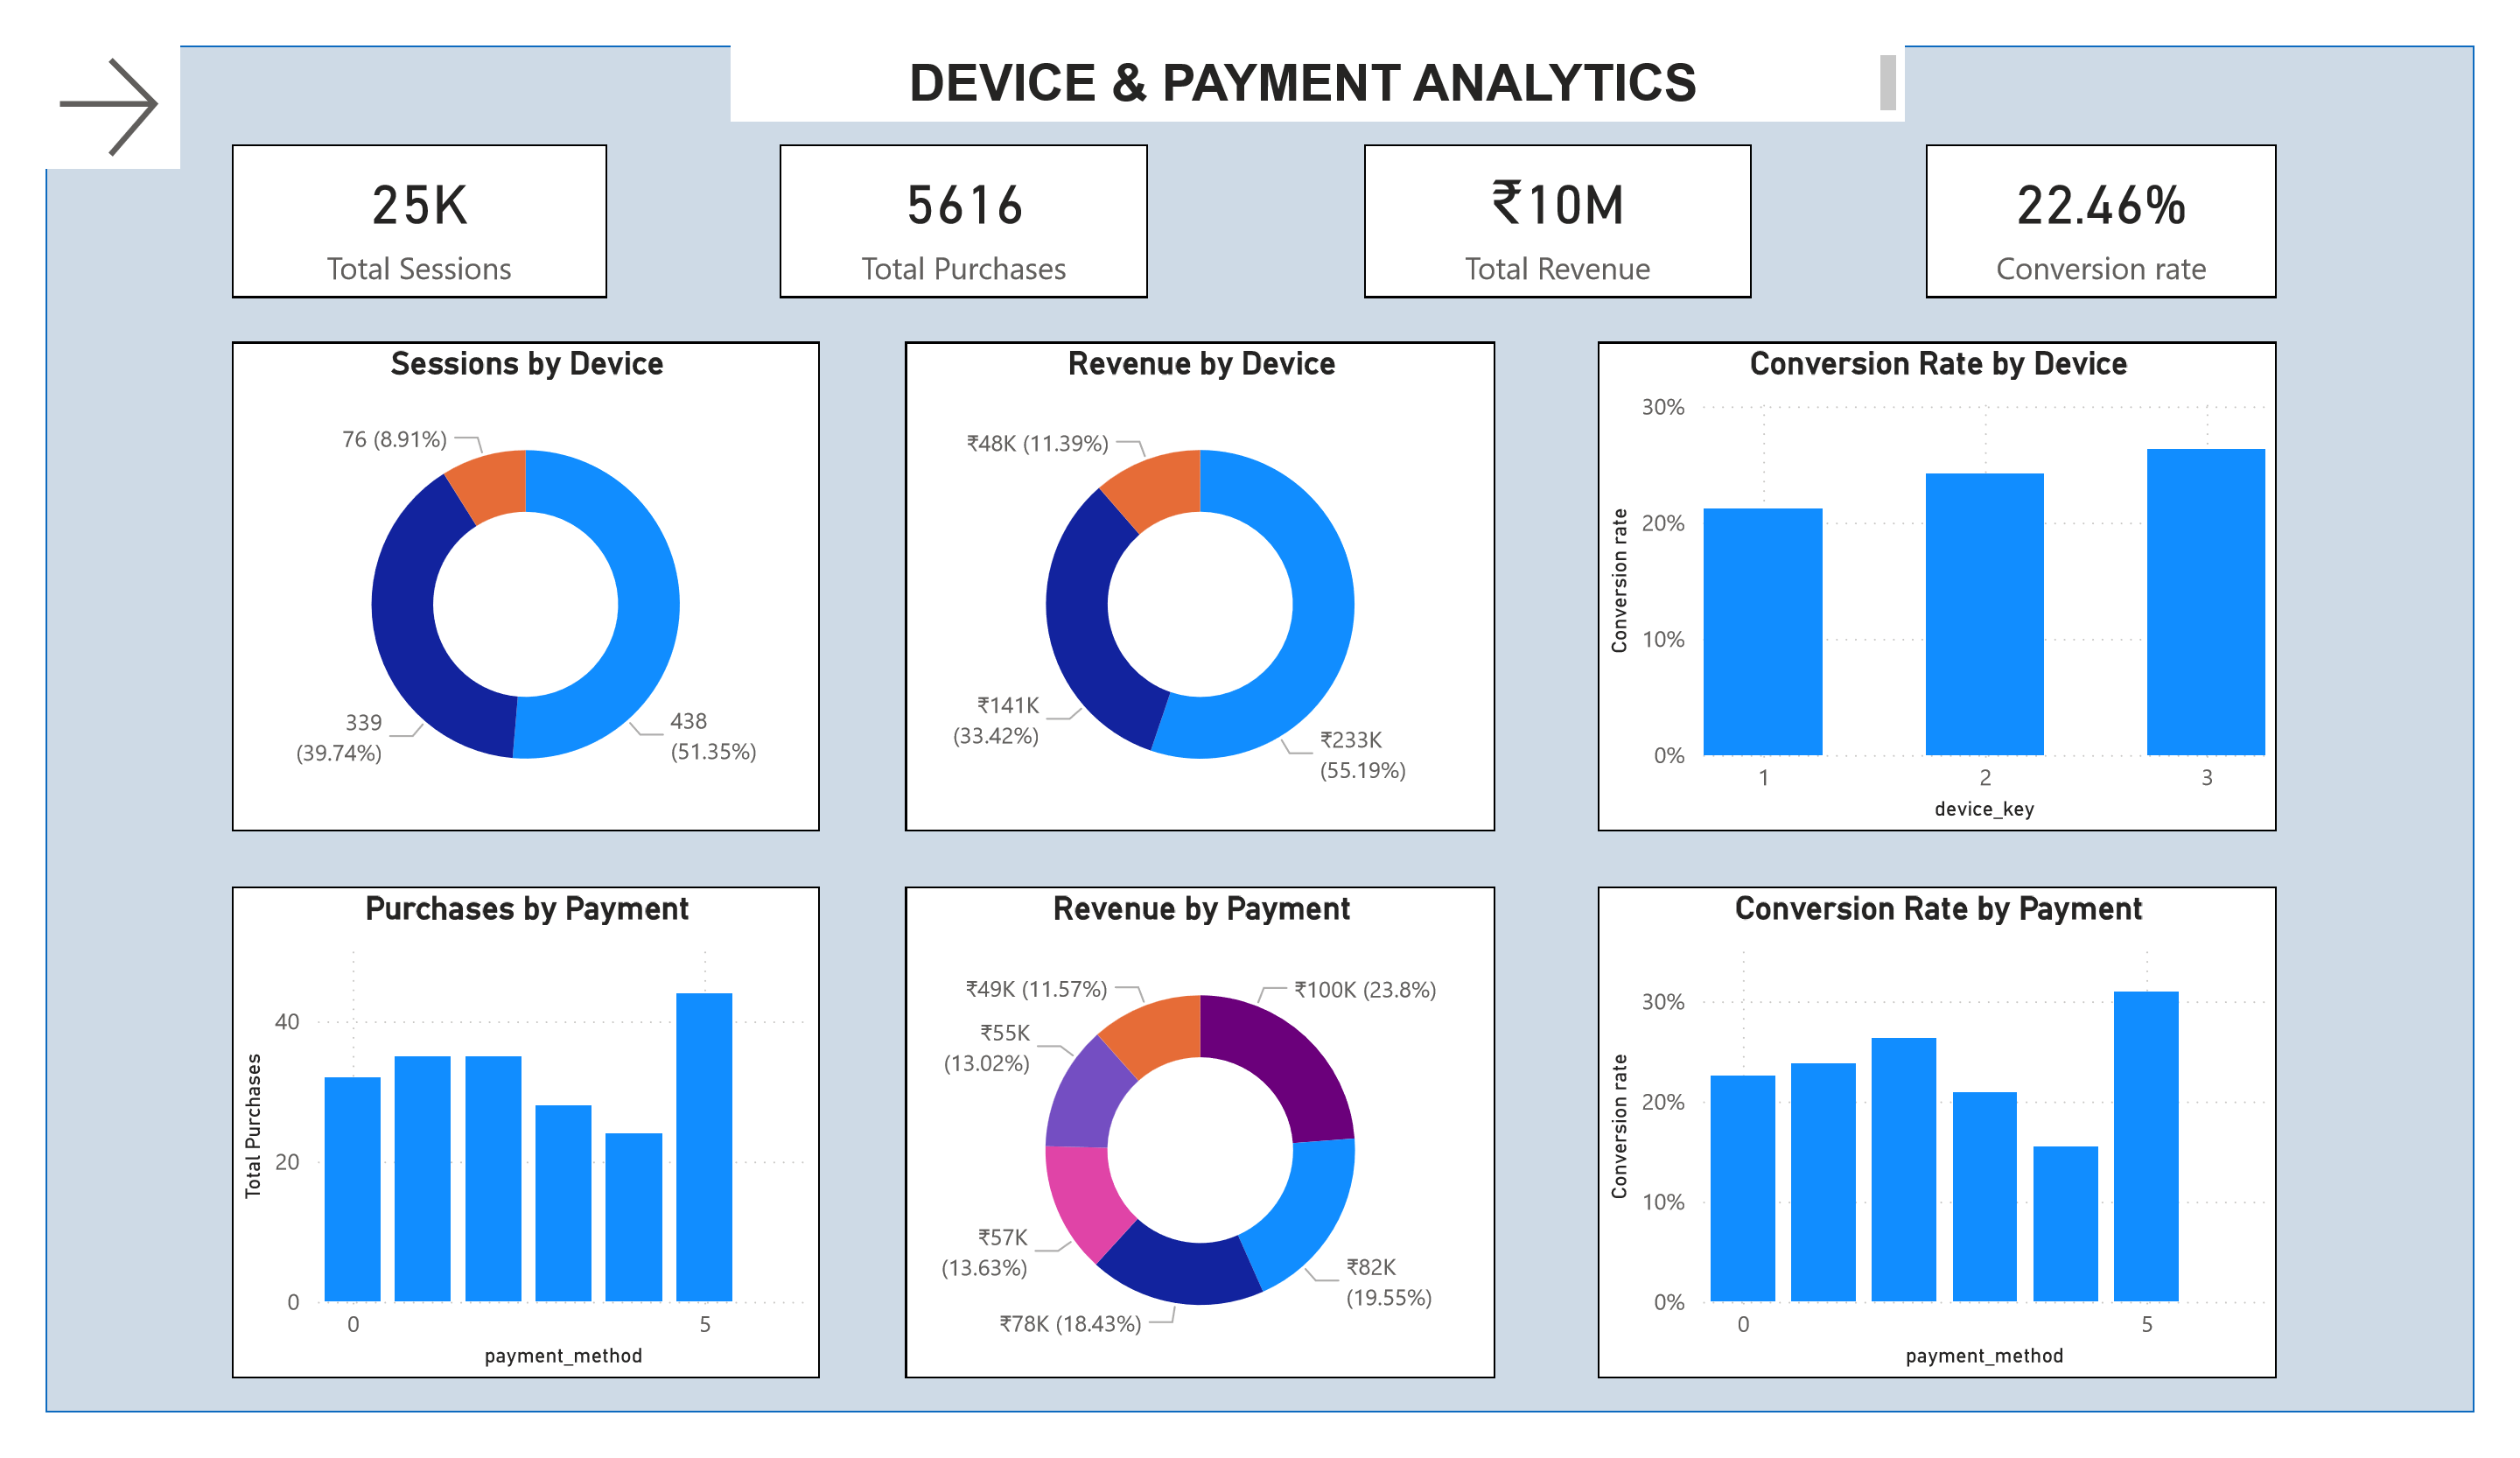

What the dashboard file says about the page in this screenshot:
{"tool":"powerbi","page":{"name":"Page 7","canvas":[1280,720],"ordinal":6},"visuals":[{"type":"card","fields":{"Values":["Measures (2).Total Sessions"]},"box":[97.9,39.9,198.2,81],"z":0},{"type":"card","fields":{"Values":["Measures (2).Total Purchases"]},"box":[386.7,41.1,194.5,81],"z":1000},{"type":"card","fields":{"Values":["Measures (2).Conversion rate"]},"box":[990.8,39.9,184.9,81],"z":2000},{"type":"card","fields":{"Values":["Measures (2).Total Revenue"]},"box":[693.6,39.9,204.2,81],"z":3000},{"type":"textbox","box":[361.3,0,618.7,39.9],"z":4000},{"type":"donutChart","title":" Sessions by Device","fields":{"Category":["gold dim_device.device_key"],"Y":["Measures (2).Total Sessions"]},"box":[97.9,155.9,310.5,258.6],"z":5000},{"type":"donutChart","title":"Revenue by Device","fields":{"Category":["gold dim_device.device_key"],"Y":["Measures (2).Total Revenue"]},"box":[453.1,155.9,310.5,258.6],"z":6000},{"type":"columnChart","title":"Conversion Rate by Device ","fields":{"Category":["gold dim_device.device_key"],"Y":["Measures (2).Conversion rate"]},"box":[818,155.9,357.7,258.6],"z":7000},{"type":"columnChart","title":" Purchases by Payment ","fields":{"Y":["Measures (2).Total Purchases"],"Category":["gold dim_payment.payment_method"]},"box":[97.9,443.5,310.5,258.6],"z":8000},{"type":"donutChart","title":" Revenue by Payment ","fields":{"Y":["Measures (2).Total Revenue"],"Category":["gold dim_payment.payment_method"]},"box":[453.1,443.5,310.5,258.6],"z":9000},{"type":"columnChart","title":"Conversion Rate by Payment","fields":{"Y":["Measures (2).Conversion rate"],"Category":["gold dim_payment.payment_method"]},"box":[818,443.5,357.7,258.6],"z":10000},{"type":"shape","box":[0,0,1279.6,720.2],"z":10001}]}

Visuals, with their boxes in screenshot pixels (x1, y1, x2, y2), scaled from the page's 1280x720 canvas onto the 2520x1458 screenshot:
card - Measures (2).Total Sessions: {"x1": 192, "y1": 81, "x2": 583, "y2": 245}
card - Measures (2).Total Purchases: {"x1": 761, "y1": 83, "x2": 1144, "y2": 248}
card - Measures (2).Conversion rate: {"x1": 1950, "y1": 81, "x2": 2314, "y2": 245}
card - Measures (2).Total Revenue: {"x1": 1366, "y1": 81, "x2": 1767, "y2": 245}
textbox: {"x1": 711, "y1": 0, "x2": 1929, "y2": 81}
" Sessions by Device" donutChart: {"x1": 192, "y1": 316, "x2": 804, "y2": 839}
"Revenue by Device" donutChart: {"x1": 892, "y1": 316, "x2": 1503, "y2": 839}
"Conversion Rate by Device " columnChart: {"x1": 1610, "y1": 316, "x2": 2314, "y2": 839}
" Purchases by Payment " columnChart: {"x1": 192, "y1": 898, "x2": 804, "y2": 1422}
" Revenue by Payment " donutChart: {"x1": 892, "y1": 898, "x2": 1503, "y2": 1422}
"Conversion Rate by Payment" columnChart: {"x1": 1610, "y1": 898, "x2": 2314, "y2": 1422}
shape: {"x1": 0, "y1": 0, "x2": 2519, "y2": 1457}
